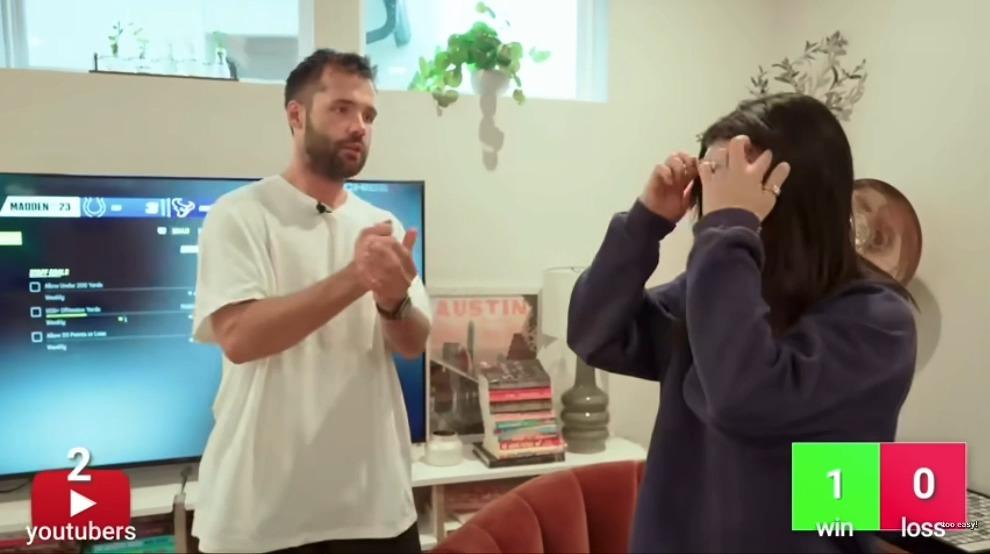Rock: (357, 218, 394, 300)
